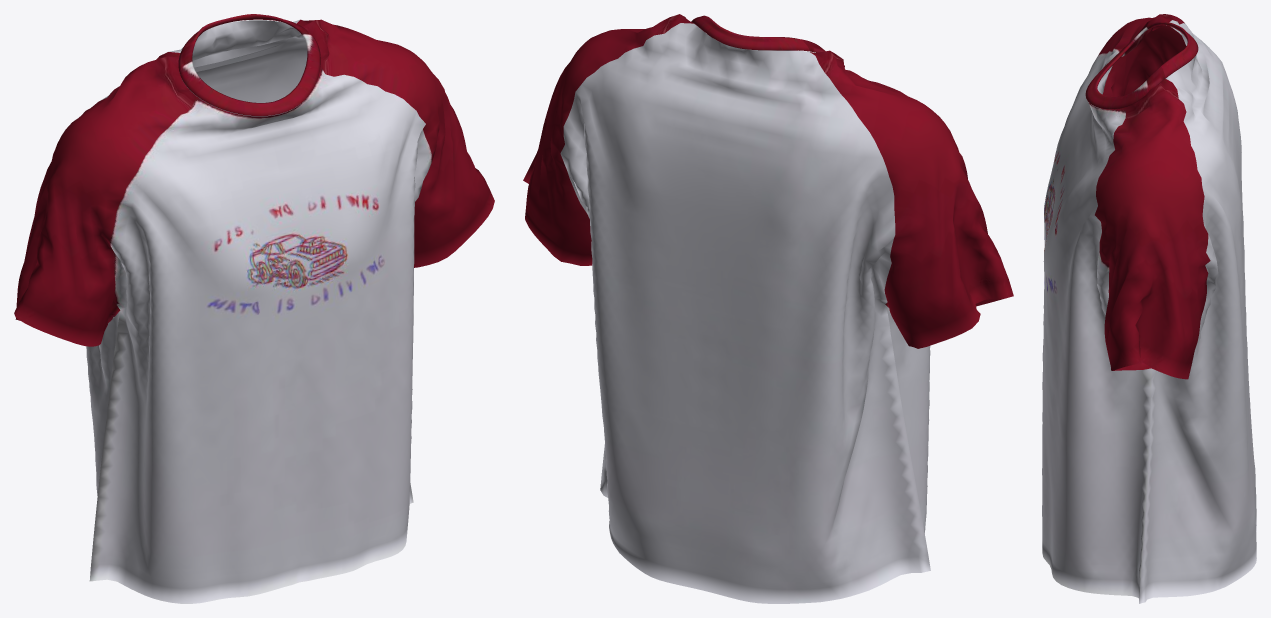
The model's file is tee-M.glb.
3 views of the same model, side by side, from view 1: azimuth 30°, elevation 25°; view 2: azimuth 150°, elevation 25°; view 3: azimuth 270°, elevation 25° (orthographic). The views are drawn at different scales.
Visible parts, largest first — view 1: tee; view 2: tee; view 3: tee.
Part boxes in pixels (left/top/right/bottom): tee: left=14, top=14, right=494, bottom=603; tee: left=523, top=14, right=1013, bottom=603; tee: left=1042, top=14, right=1256, bottom=603.
Size of the model in its own units: 0.6468 by 0.6718 by 0.2601.
Materials: 2 (2 with a texture image).
